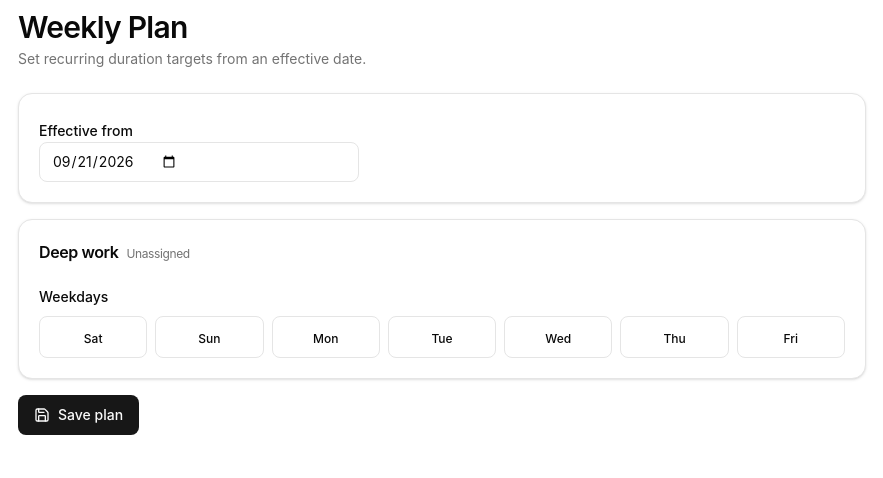
Test: localized validation feedback › shows an inline error for a missing effective date
Clear the date field labelled "Effective from" at (199, 162), box [39,142,359,182]
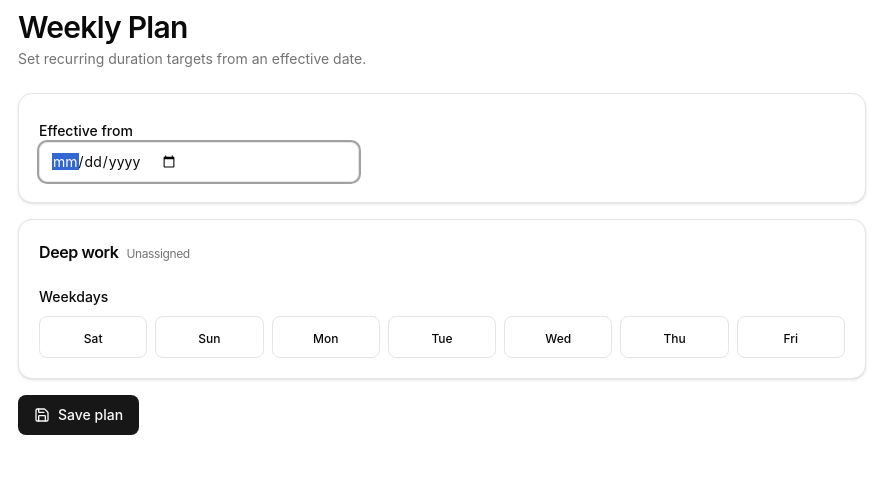
Click the button "Save plan".
click(79, 415)  # box [18,395,139,435]
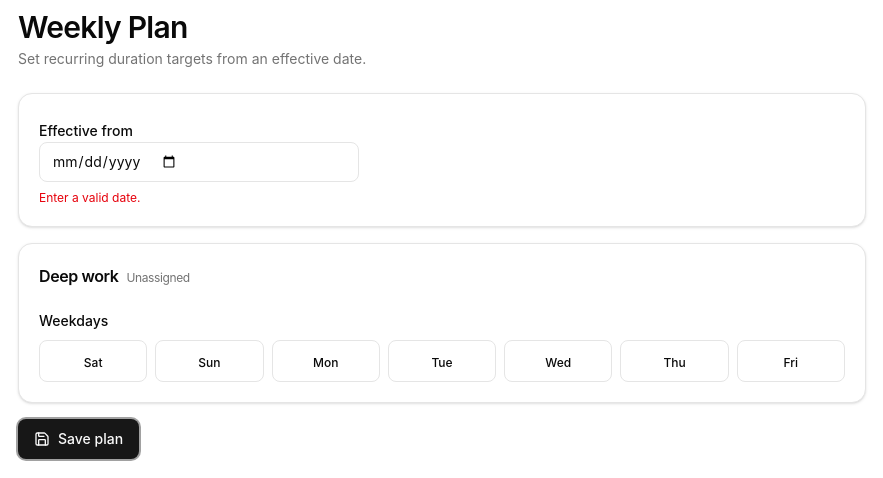
Result: the text "Enter a valid date." is shown at [39,190,140,205]
